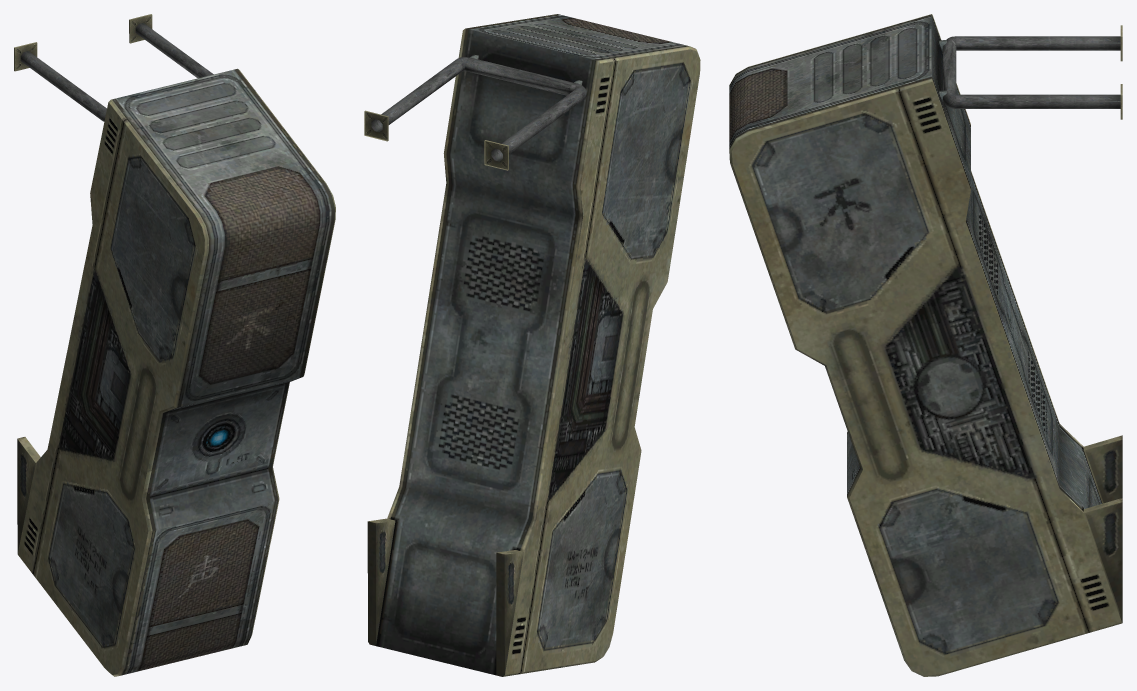
File: speaker_wall_mount.dae
The picture shows the model from 3 angles, left to right: view 1: azimuth 30°, elevation 25°; view 2: azimuth 150°, elevation 25°; view 3: azimuth 270°, elevation 25°; orthographic projection. The views are drawn at different scales.
Parts seen in each view (by area): view 1: polySurface2; view 2: polySurface2; view 3: polySurface2.
Boxes of the visible parts, bbox=[...] form: polySurface2: bbox=[14, 14, 335, 676]; polySurface2: bbox=[364, 14, 700, 676]; polySurface2: bbox=[729, 14, 1122, 676].
Size of the model in its own units: 0.262 by 1.05 by 0.6238.
